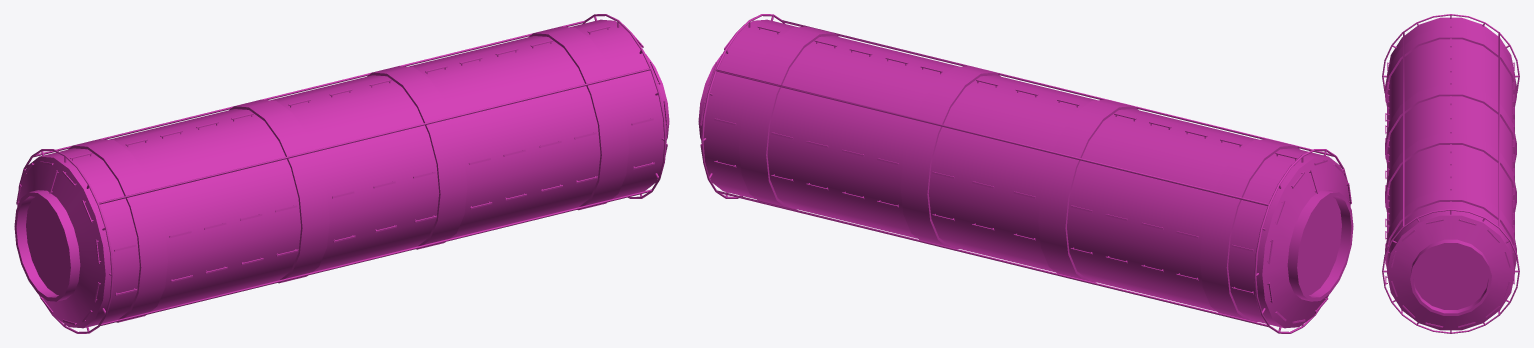
The model's file is ExteriorPiece_Arm03.FBX.
3 views of the same model, side by side, from view 1: azimuth 30°, elevation 25°; view 2: azimuth 150°, elevation 25°; view 3: azimuth 270°, elevation 25° (orthographic). The views are drawn at different scales.
Visible parts, largest first — view 1: ExteriorPiece_Arm_03; view 2: ExteriorPiece_Arm_03; view 3: ExteriorPiece_Arm_03.
Part boxes in pixels (x1,y1,x2,y2): ExteriorPiece_Arm_03: [14, 14, 669, 333]; ExteriorPiece_Arm_03: [698, 14, 1353, 333]; ExteriorPiece_Arm_03: [1382, 14, 1519, 333].
Size of the model in its own units: 1993 by 550 by 550.
